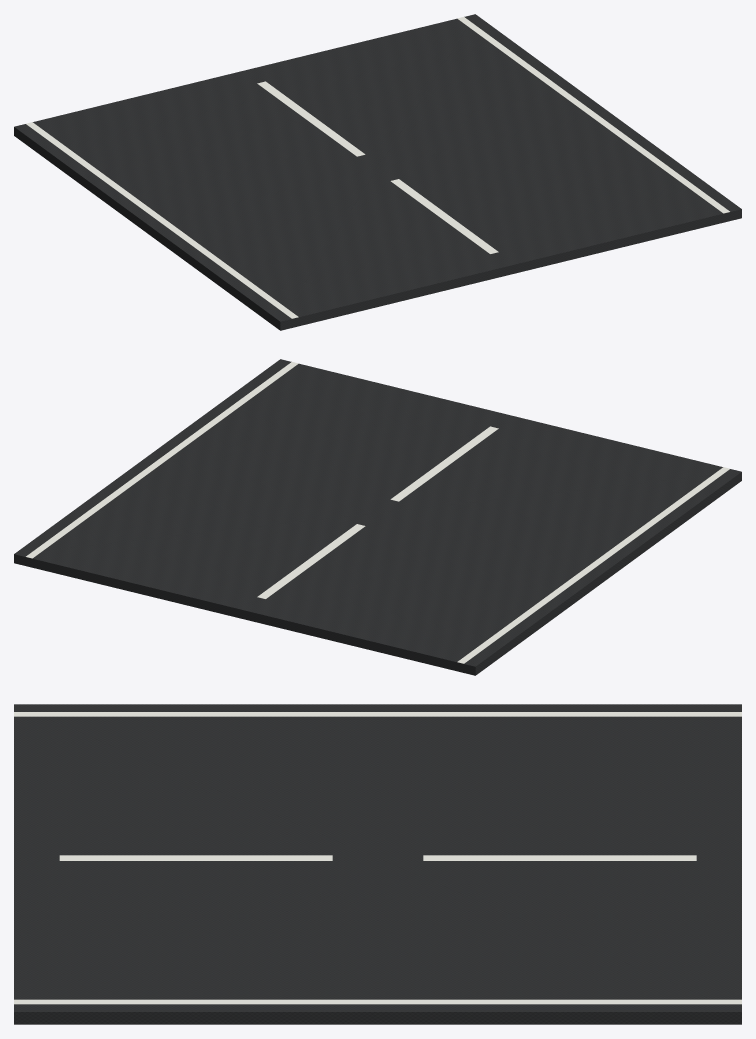
Rendered from OAR_Road_Straight_Dashed_8m.fbx.
3 views of the same model, one above another, from view 1: azimuth 30°, elevation 25°; view 2: azimuth 150°, elevation 25°; view 3: azimuth 270°, elevation 25° (orthographic). The views are drawn at different scales.
Parts seen in each view (by area): view 1: Body, Markings.009_Mesh; view 2: Body, Markings.009_Mesh; view 3: Body, Markings.009_Mesh.
Boxes of the visible parts, <box> form: Body: <box>14,14,741,330</box>; Markings.009_Mesh: <box>26,17,729,318</box>; Body: <box>14,359,741,675</box>; Markings.009_Mesh: <box>26,362,729,663</box>; Body: <box>14,704,741,1024</box>; Markings.009_Mesh: <box>14,712,741,1004</box>.
Bounding box in the file's own units: 8 × 0.153 × 8.
